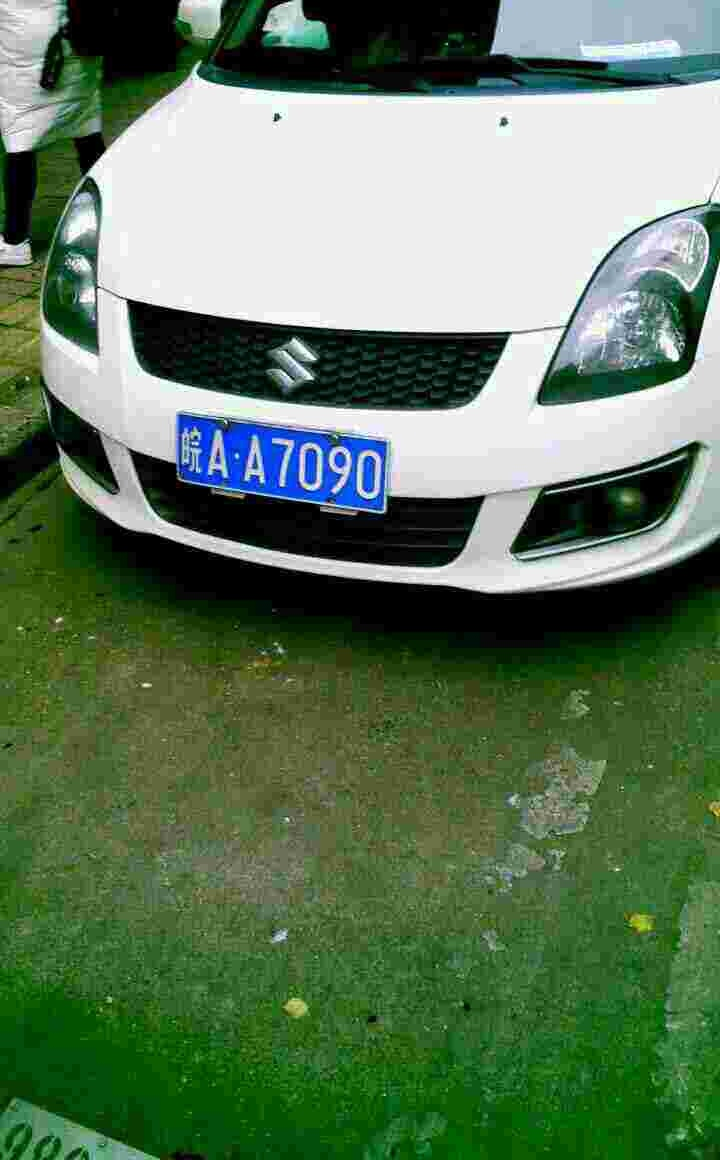license_plate: (181, 416, 390, 520)
